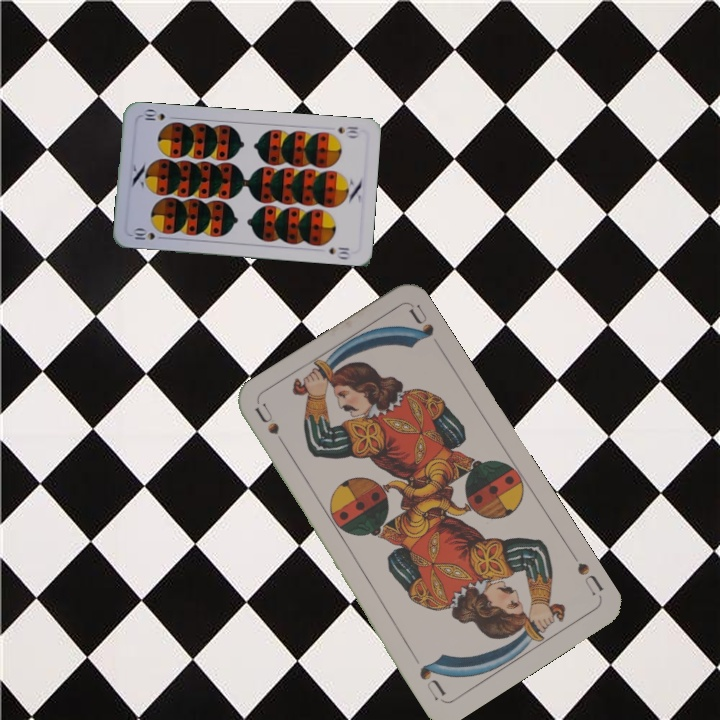S10: (334, 122, 361, 140), (129, 226, 158, 242)
SU: (251, 400, 292, 455), (566, 547, 606, 599)
